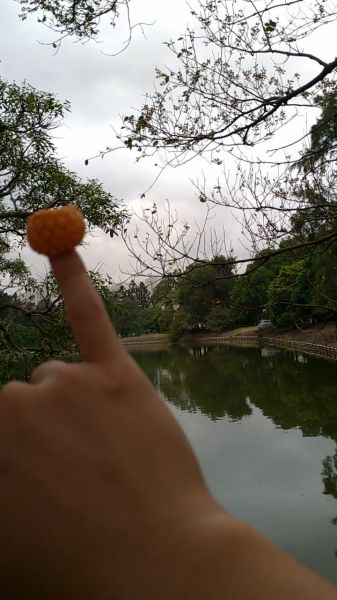eggs: (26, 206, 85, 255)
